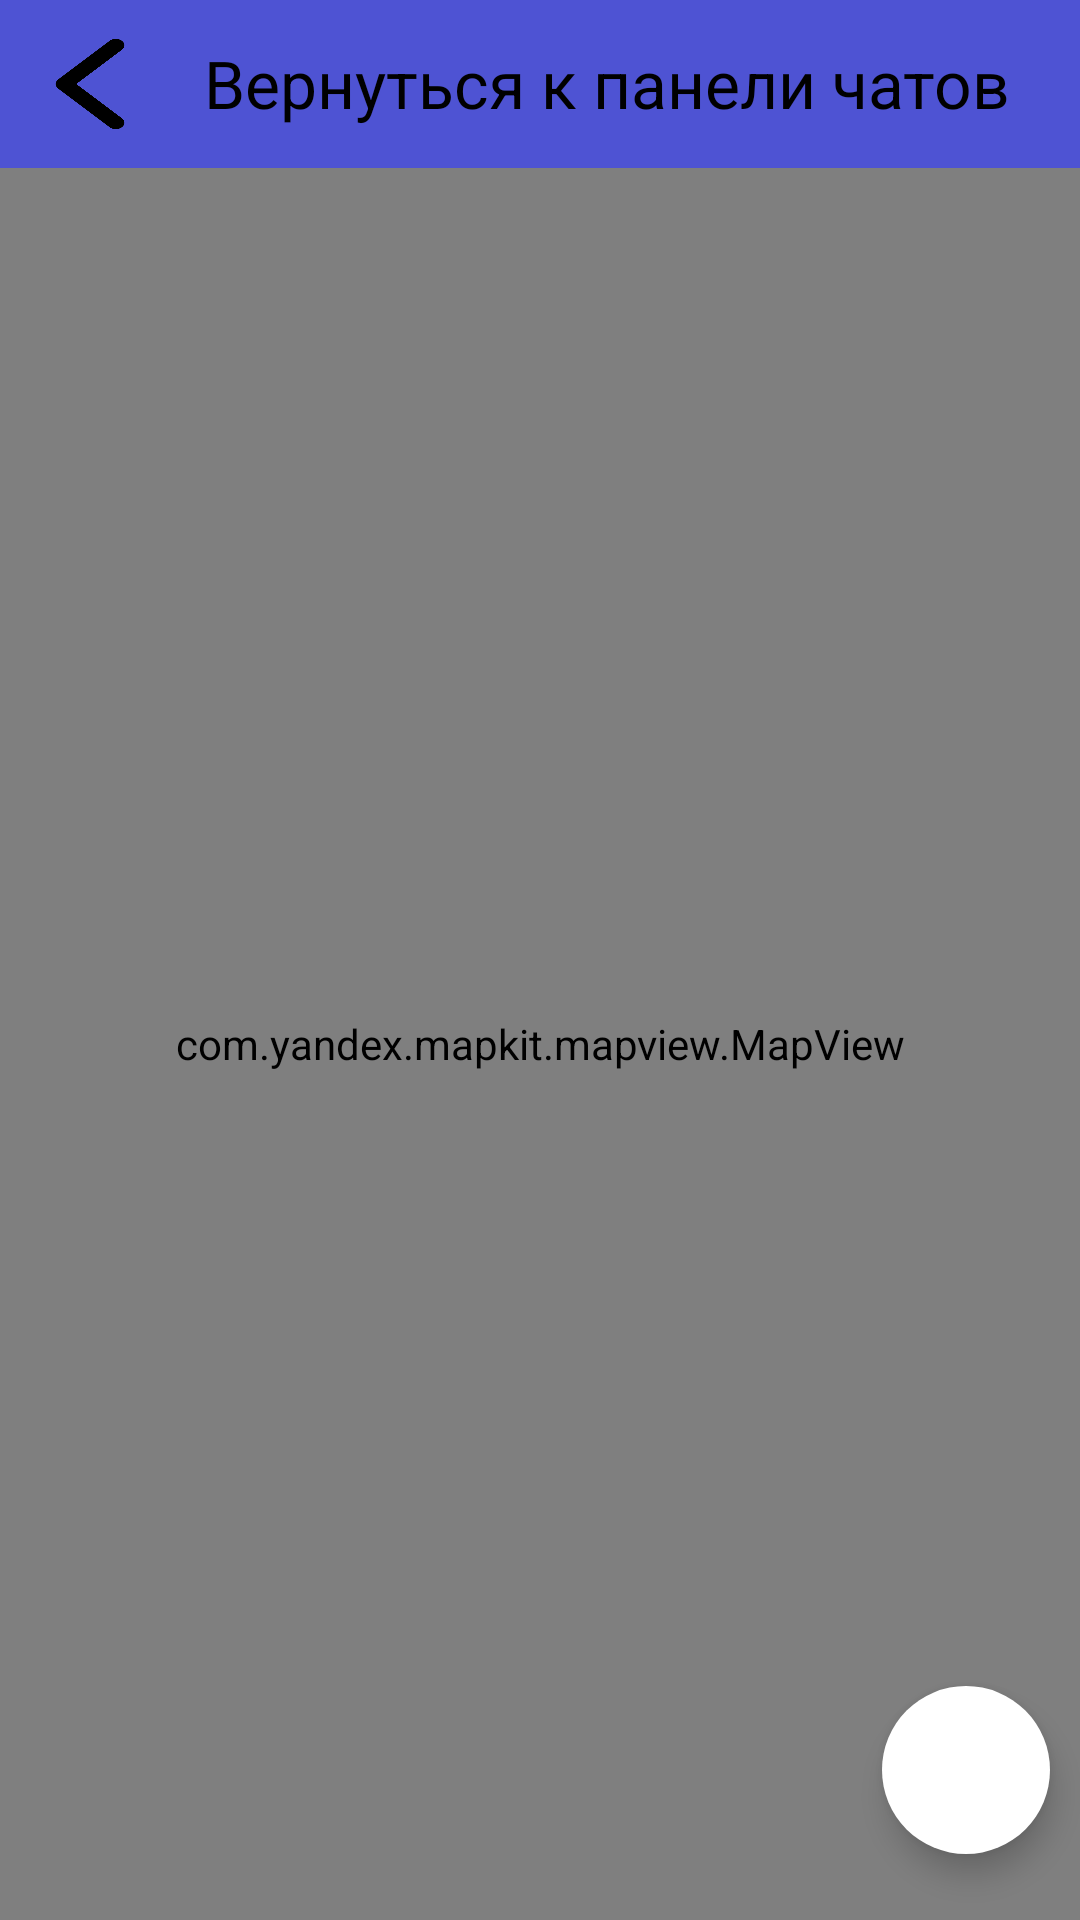

Named icons in this screenshot (1080w x 1920h) and their centers, point (x, y):
back arrow: point (90, 84)
